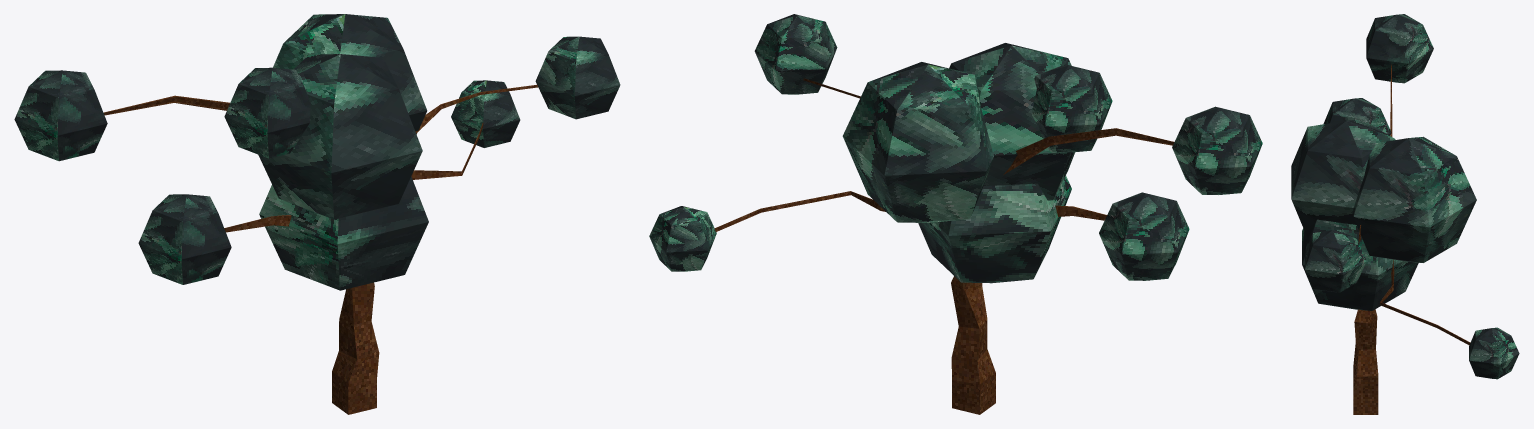
Rendered from trees.gltf.
3 renders of one model, left to right at view 1: azimuth 30°, elevation 25°; view 2: azimuth 150°, elevation 25°; view 3: azimuth 270°, elevation 25°, orthographic. The views are drawn at different scales.
Visible parts, largest first — view 1: Sphere.002, Cube, Sphere.001, Sphere, Sphere.006, Sphere.007; view 2: Sphere.002, Cube, Sphere, Sphere.001, Sphere.006, Sphere.007; view 3: Sphere.002, Sphere.001, Cube, Sphere.006, Sphere.007.
Part boxes in pixels (x1,y1,x2,y2): Sphere.002: [224, 14, 428, 290]; Cube: [103, 84, 537, 414]; Sphere.001: [14, 70, 107, 161]; Sphere: [138, 194, 231, 284]; Sphere.006: [535, 36, 620, 119]; Sphere.007: [451, 80, 520, 147]; Sphere.002: [842, 43, 1112, 283]; Cube: [714, 78, 1174, 414]; Sphere: [1099, 192, 1189, 280]; Sphere.001: [1172, 106, 1262, 194]; Sphere.006: [754, 14, 837, 94]; Sphere.007: [649, 206, 716, 271]; Sphere.002: [1291, 98, 1476, 310]; Sphere.001: [1366, 14, 1433, 83]; Cube: [1353, 64, 1470, 414]; Sphere.006: [1305, 229, 1366, 292]; Sphere.007: [1469, 327, 1519, 379].
Bounding box in the file's own units: 39 × 25.84 × 18.16.
Materials: 2 (2 with a texture image).
